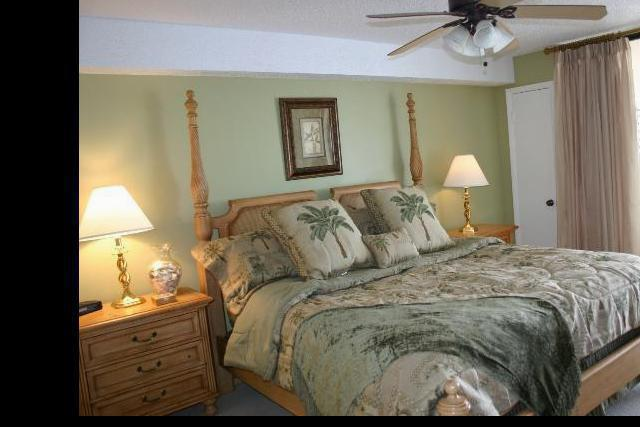Puerta: (514, 93, 557, 244)
